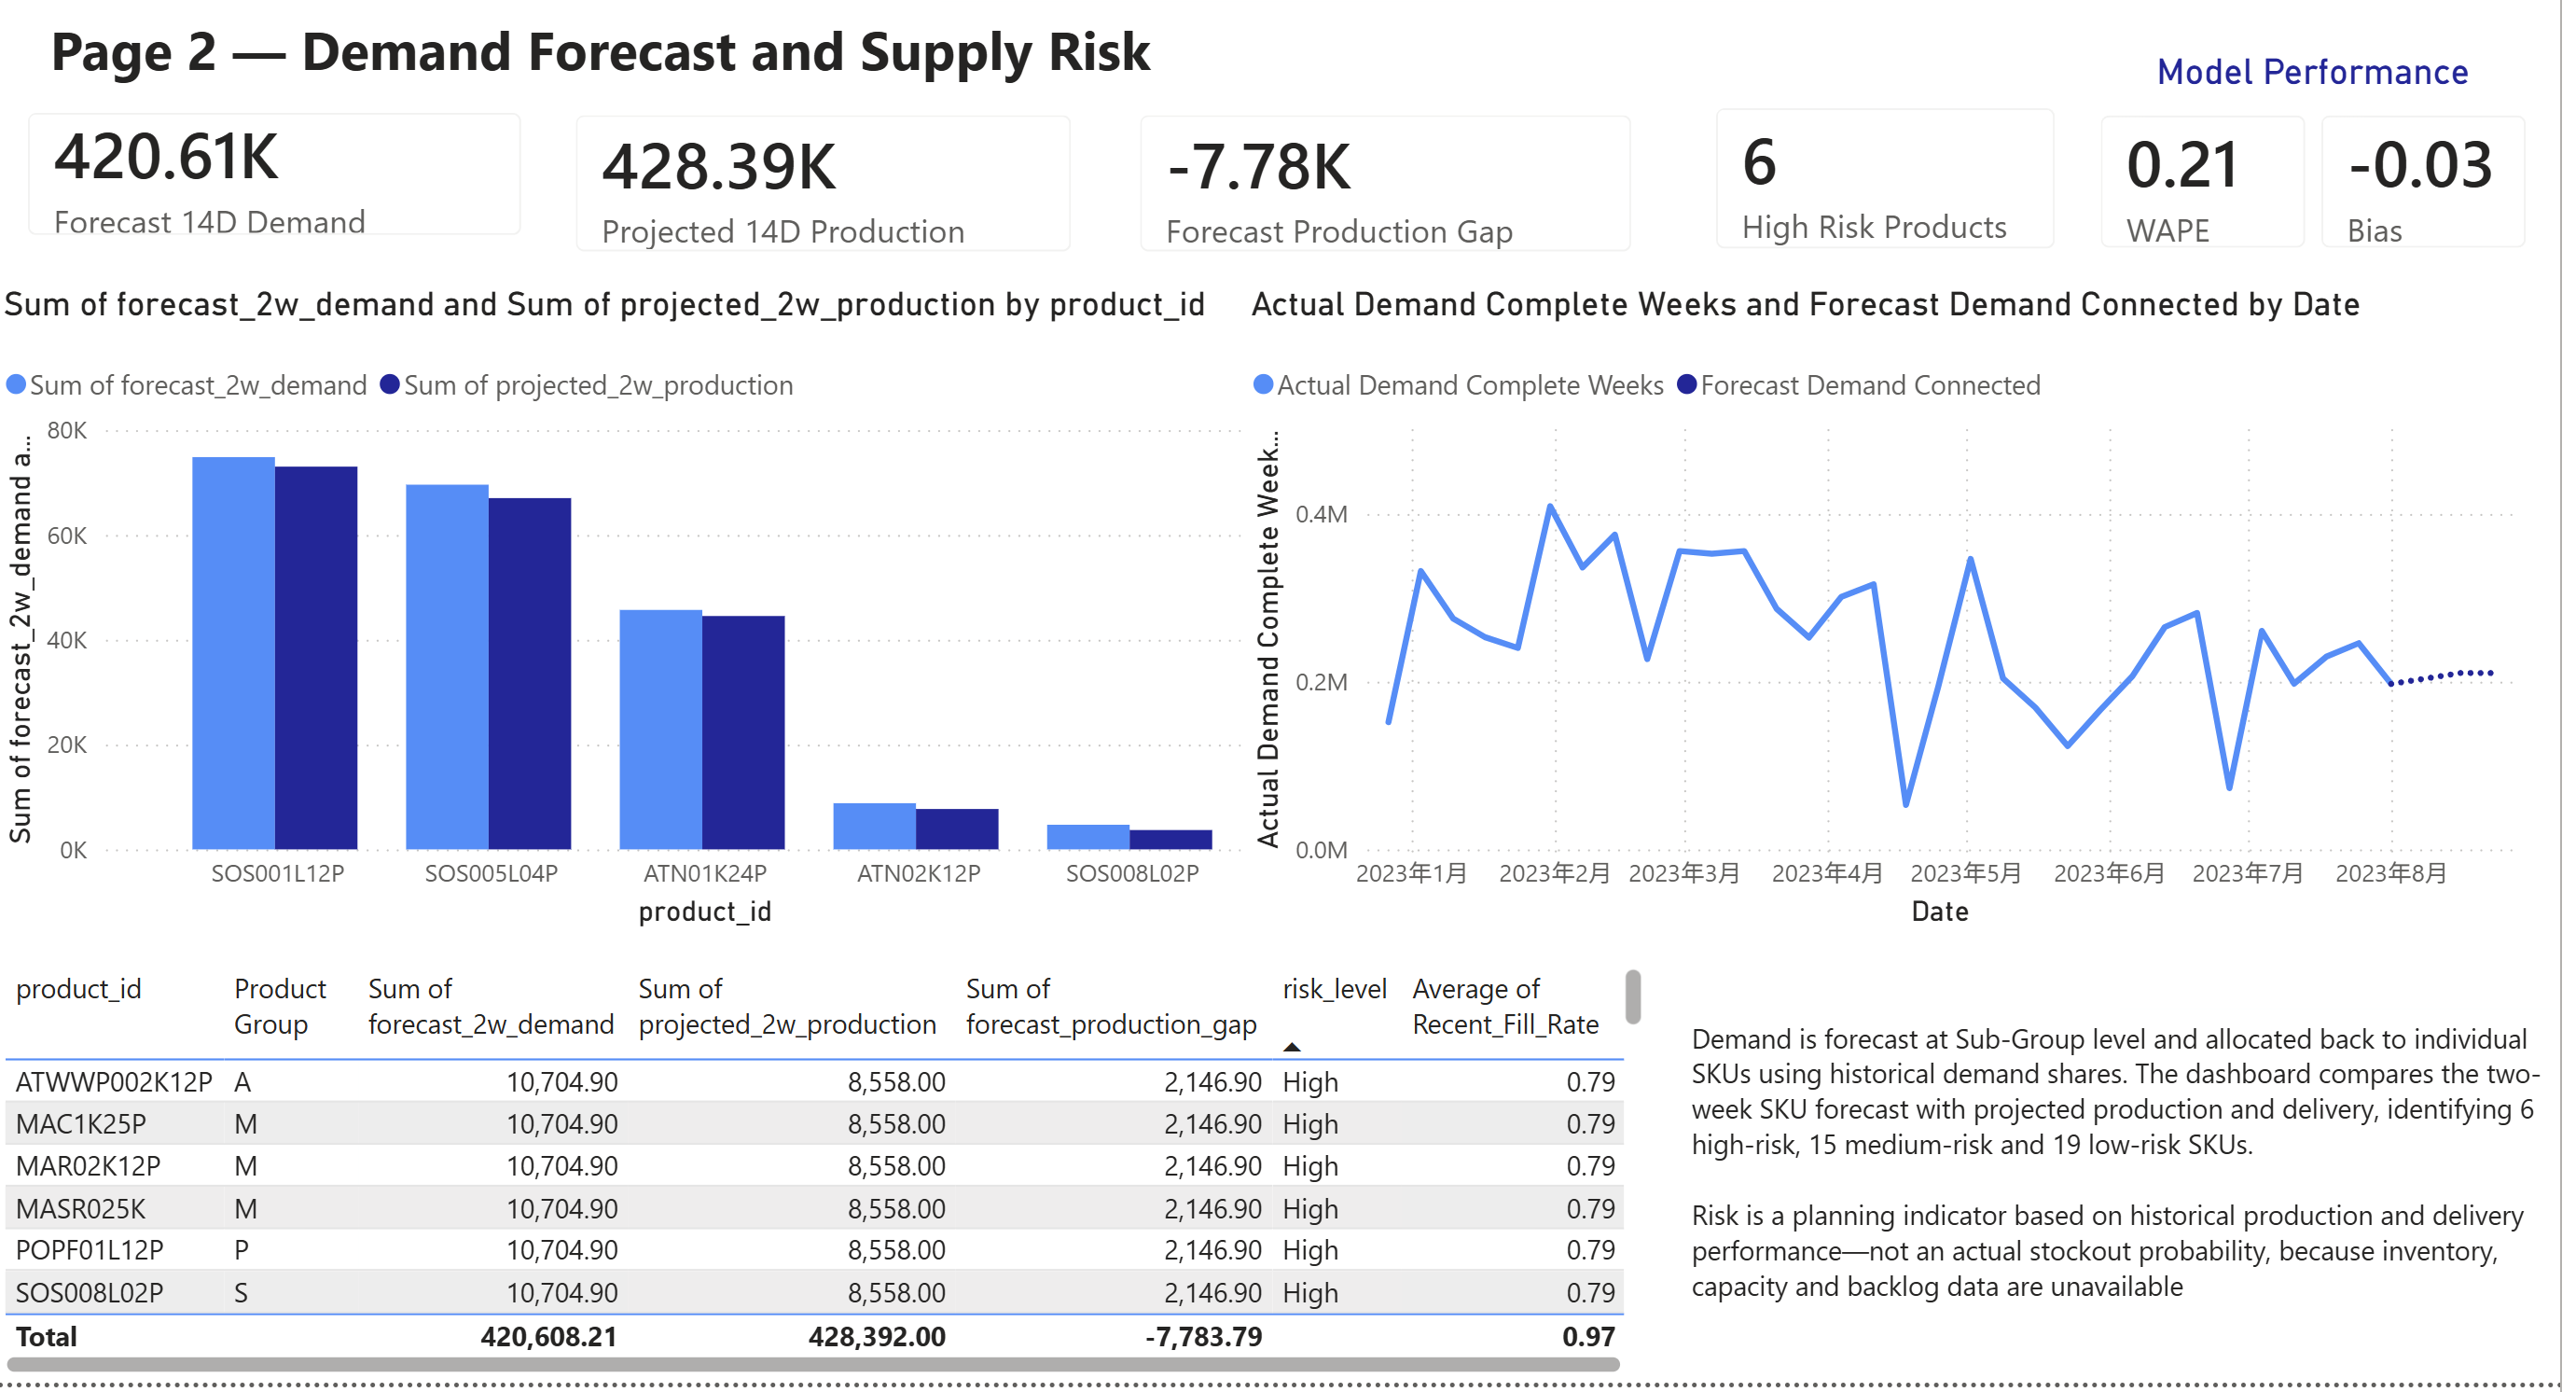

The page's visual inventory and layout, read from the dashboard file:
{"tool":"powerbi","page":{"name":"Forecast & Risk","canvas":[1280,720],"ordinal":1},"visuals":[{"type":"cardVisual","fields":{"Data":["KPI prediction.Projected 14D Production"]},"box":[273.3,70.9,281.4,102.3],"z":0},{"type":"cardVisual","fields":{"Data":["KPI prediction.Forecast 14D Demand"]},"box":[0,69.8,280.2,95.3],"z":1000},{"type":"cardVisual","fields":{"Data":["KPI prediction.Forecast Production Gap"]},"box":[555,71.1,279.4,102.9],"z":2000},{"type":"cardVisual","fields":{"Data":["KPI prediction.High Risk Products"]},"box":[842.1,67.3,203.2,104.1],"z":3000},{"type":"clusteredColumnChart","fields":{"Category":["forecast_risk_topdown.product_id"],"Y":["Sum(forecast_risk_topdown.forecast_2w_demand)","Sum(forecast_risk_topdown.projected_2w_production)"]},"box":[0,172.1,658.1,325.6],"z":4000},{"type":"lineChart","fields":{"Category":["DimDate.Date.Variation.日期层次结构.年"],"Y":["weekly_product_flow.Actual Demand Complete Weeks","weekly_product_flow.Forecast Demand Connected"]},"box":[622.1,172.1,658.1,325.6],"z":5000},{"type":"tableEx","fields":{"Values":["DimProduct.product_id","DimProduct.Product Group","Sum(forecast_risk_topdown.forecast_2w_demand)","Sum(forecast_risk_topdown.projected_2w_production)","Sum(forecast_risk_topdown.forecast_production_gap)","forecast_risk_topdown.risk_level","Avg(forecast_risk_topdown.Recent_Fill_Rate)"]},"box":[0,508,827.3,212.4],"z":6000},{"type":"cardVisual","title":"Model Performance","fields":{"Data":["Avg(hierarchical_model_performance.wape)","Avg(hierarchical_model_performance.forecast_bias)"]},"box":[1033.9,55.9,246.4,115.6],"z":6002},{"type":"textbox","box":[842.1,533.4,436.9,162.6],"z":6003},{"type":"textbox","box":[22.9,31.8,898,48.3],"z":6004}]}

Visuals, with their boxes on the page's 1280x720 design canvas (x1, y1, x2, y2). These are canvas units, not pixel positions in the 2576x1392 screenshot, which may show the page scaled, cropped or inside an application window:
cardVisual - KPI prediction.Projected 14D Production: x1=273, y1=71, x2=555, y2=173
cardVisual - KPI prediction.Forecast 14D Demand: x1=0, y1=70, x2=280, y2=165
cardVisual - KPI prediction.Forecast Production Gap: x1=555, y1=71, x2=834, y2=174
cardVisual - KPI prediction.High Risk Products: x1=842, y1=67, x2=1045, y2=171
clusteredColumnChart - forecast_risk_topdown.product_id x Sum(forecast_risk_topdown.forecast_2w_demand): x1=0, y1=172, x2=658, y2=498
lineChart - DimDate.Date.Variation.日期层次结构.年 x weekly_product_flow.Actual Demand Complete Weeks: x1=622, y1=172, x2=1280, y2=498
tableEx - DimProduct.product_id x DimProduct.Product Group: x1=0, y1=508, x2=827, y2=720
"Model Performance" cardVisual: x1=1034, y1=56, x2=1280, y2=172
textbox: x1=842, y1=533, x2=1279, y2=696
textbox: x1=23, y1=32, x2=921, y2=80
